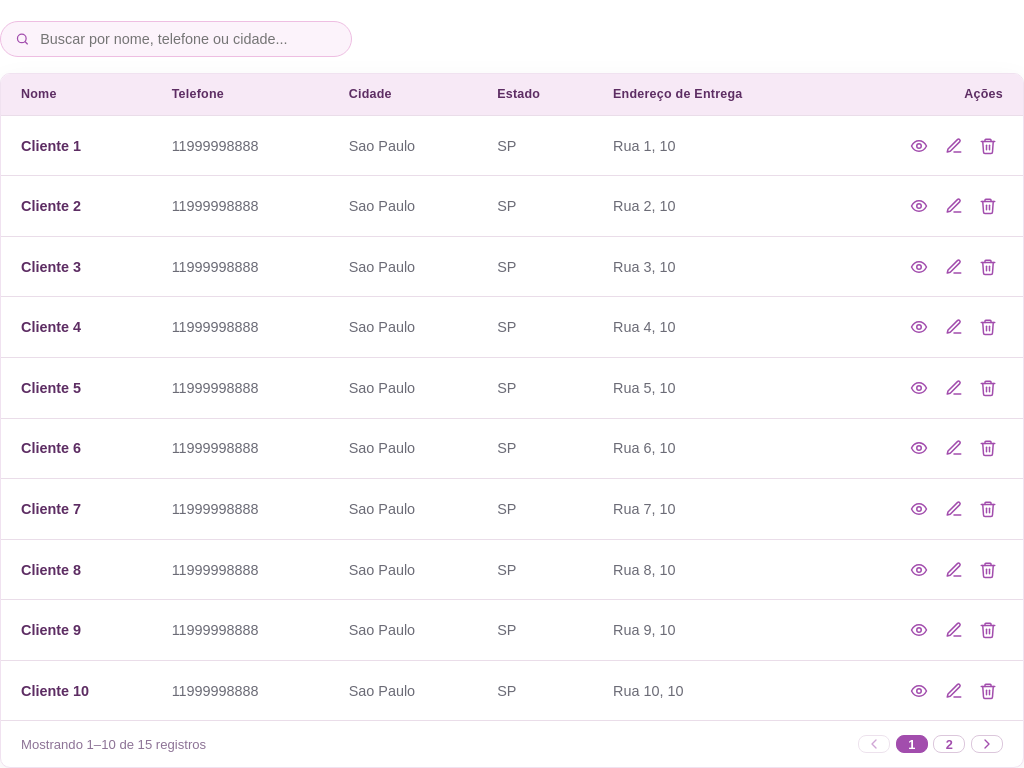
Test: ClientesComponent › pagina a listagem quando houver mais de dez clientes
(page scrolled)
Click the button named "Página 2" at (949, 744), box [933,735,965,753]
(page scrolled)
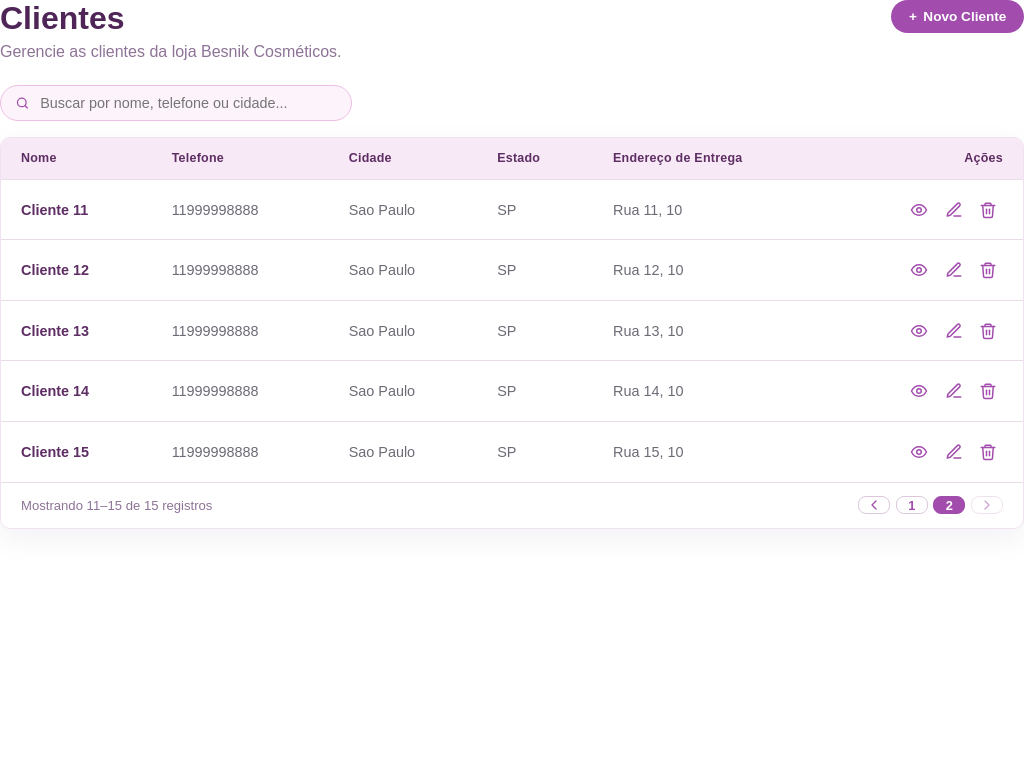
Expected: the number of rows with class "tabela__linha" is 5, [1,179,1023,240]; [1,240,1023,300]; [1,300,1023,361]; [1,361,1023,422]; [1,422,1023,482]
Expected: the text with class "tabela__resumo" reads "Mostrando 11–15 de 15 registros", [21,498,212,513]
